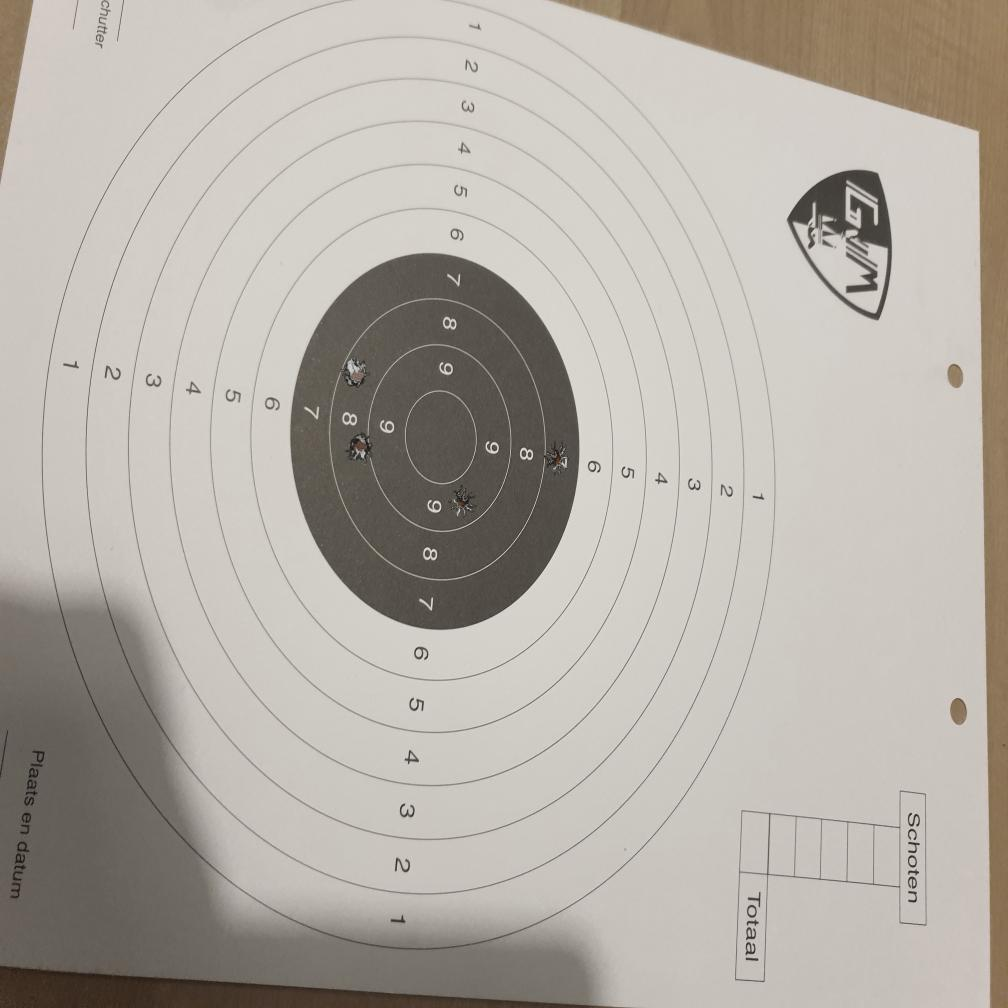8: (543, 439, 569, 477), (341, 357, 370, 389)
9: (449, 484, 477, 520), (345, 432, 373, 466)
Target: (40, 4, 774, 954)
black_contour: (291, 253, 579, 631)
